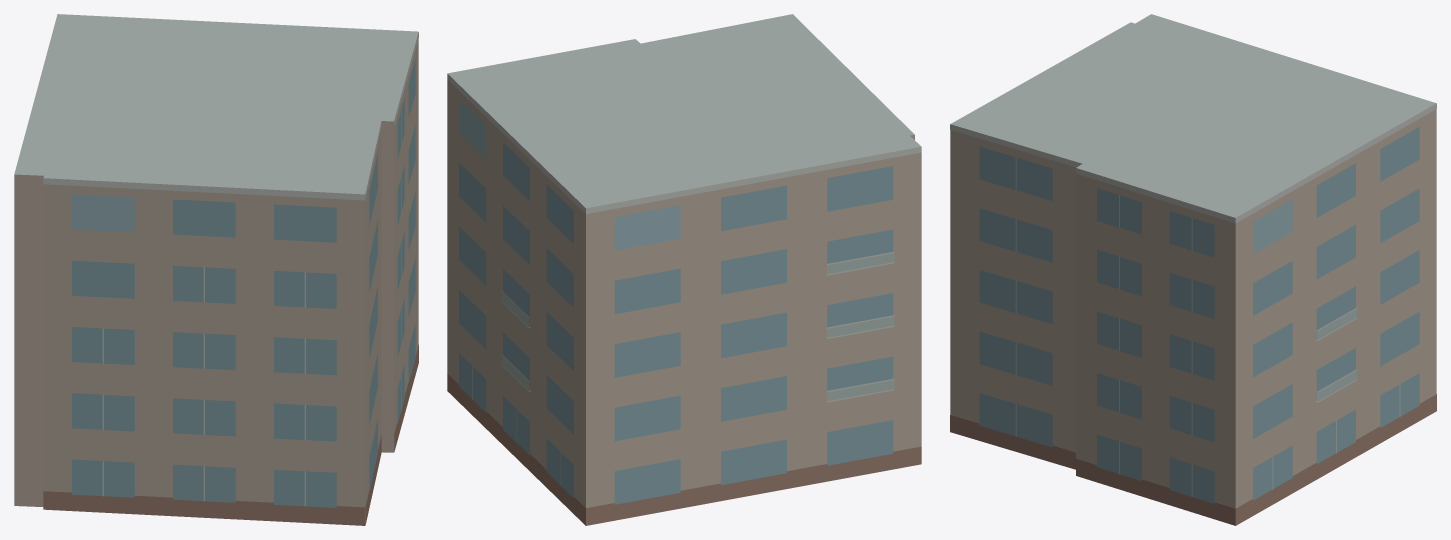
The model's file is survey-upis-33001714.glb.
3 renders of one model, left to right at view 1: azimuth 30°, elevation 25°; view 2: azimuth 150°, elevation 25°; view 3: azimuth 270°, elevation 25°, orthographic. The views are drawn at different scales.
Visible parts, largest first — view 1: survey-upis-33001714.tmp; view 2: survey-upis-33001714.tmp; view 3: survey-upis-33001714.tmp.
Boxes of the visible parts, bbox=[...] form: survey-upis-33001714.tmp: bbox=[14, 14, 418, 525]; survey-upis-33001714.tmp: bbox=[447, 14, 921, 525]; survey-upis-33001714.tmp: bbox=[950, 14, 1436, 525].
Bounding box in the file's own units: 18.97 × 13.35 × 19.13.
